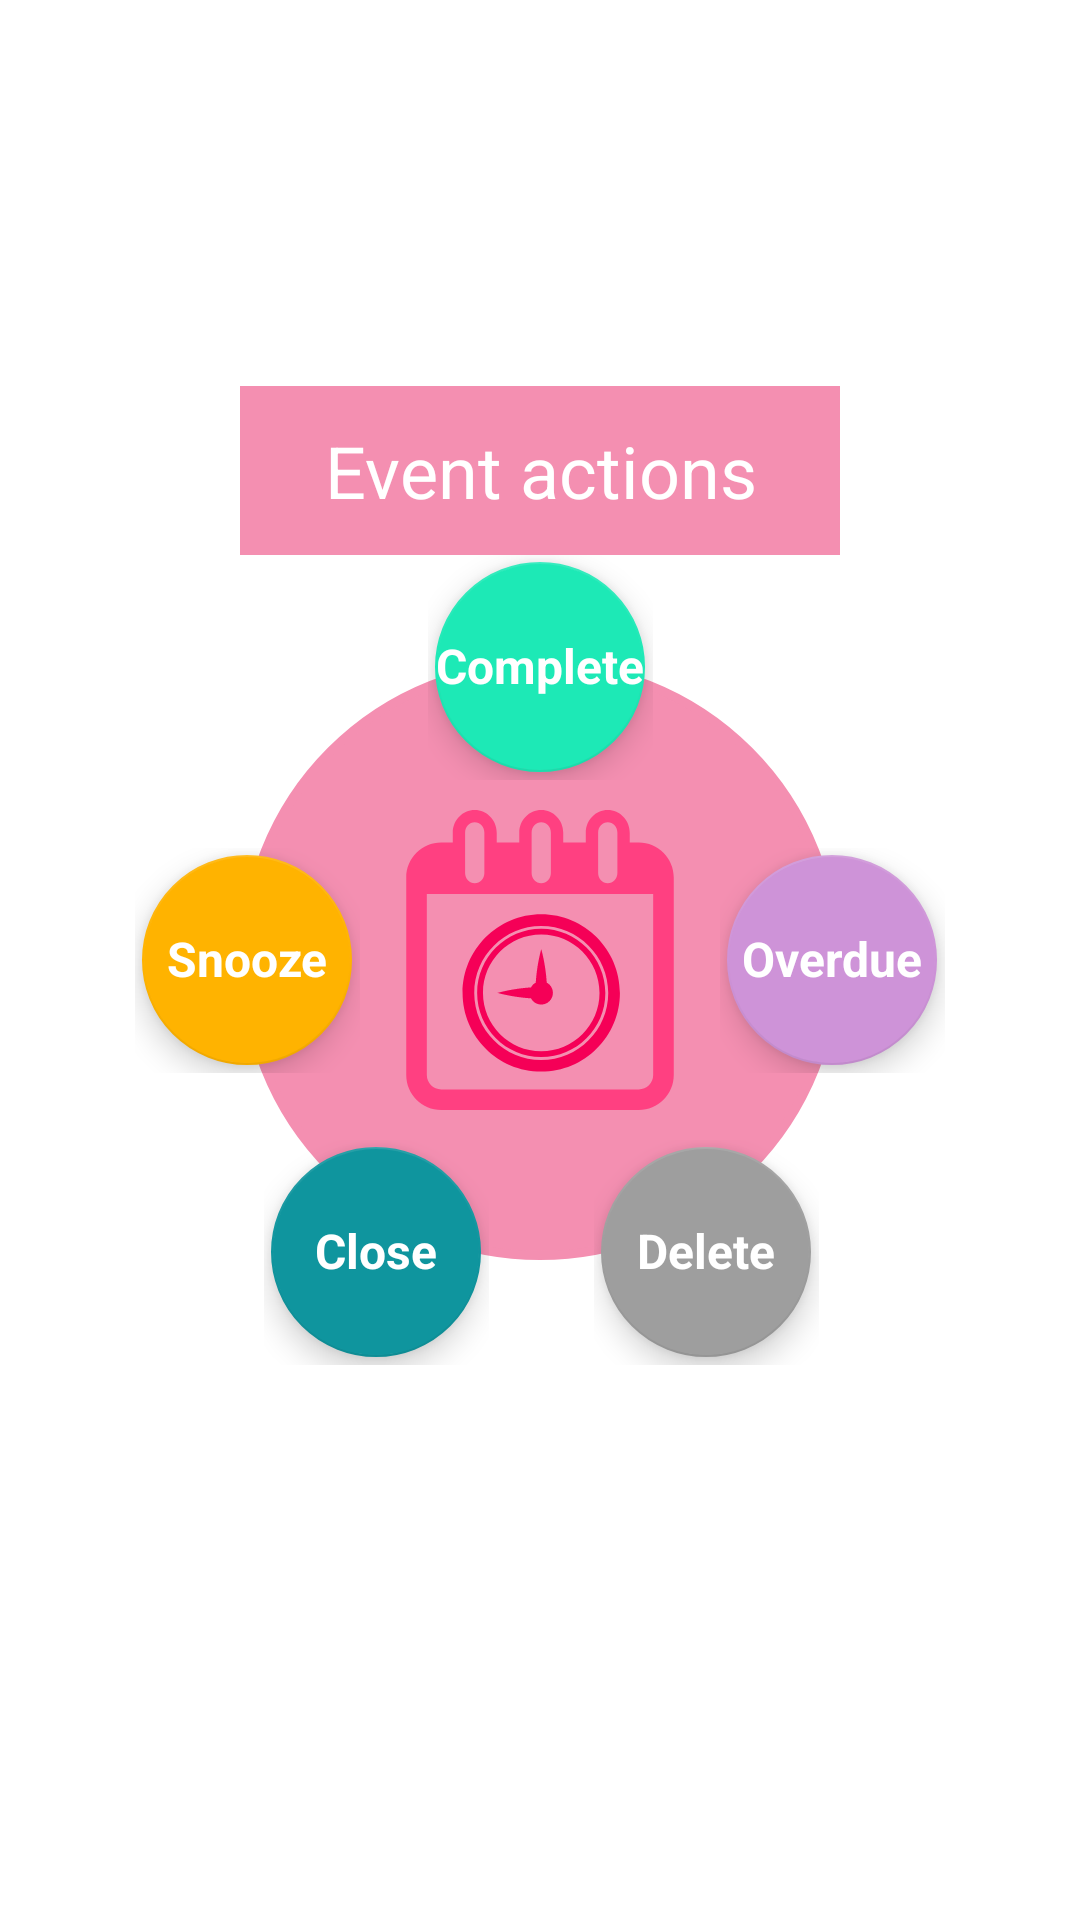

Named icons in this screenshot (1080 × 1920) and their centers, (x,y):
calendar no eimage: (540,960)
